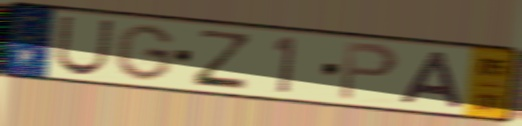1: (271, 34, 298, 96)
A: (396, 49, 467, 112)
G: (112, 22, 177, 83)
P: (337, 39, 402, 104)
U: (52, 13, 116, 77)
Z: (190, 27, 255, 92)
